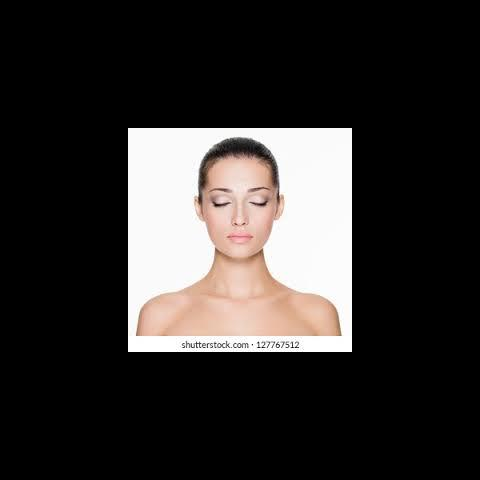closed: (204, 184, 274, 210)
